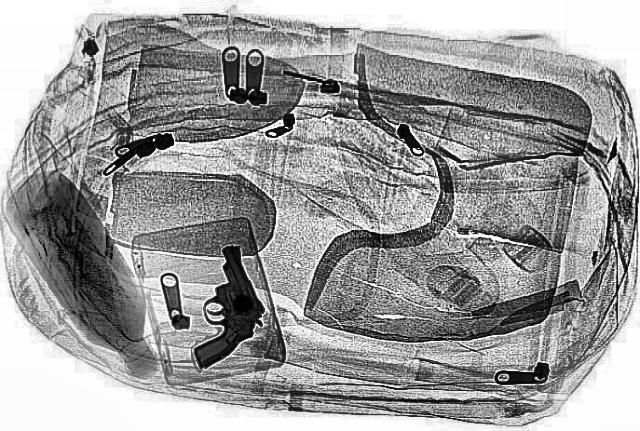Gun: (190, 244, 266, 370)
